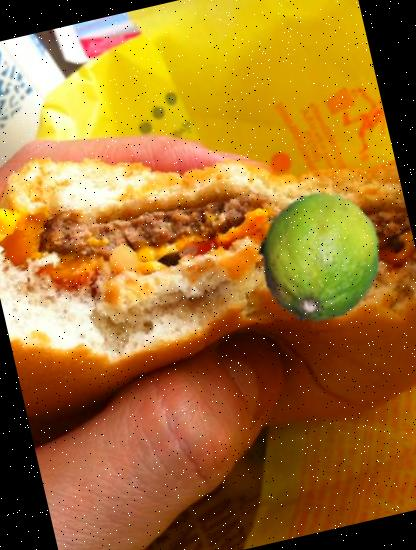Limes: (241, 179, 398, 336)
